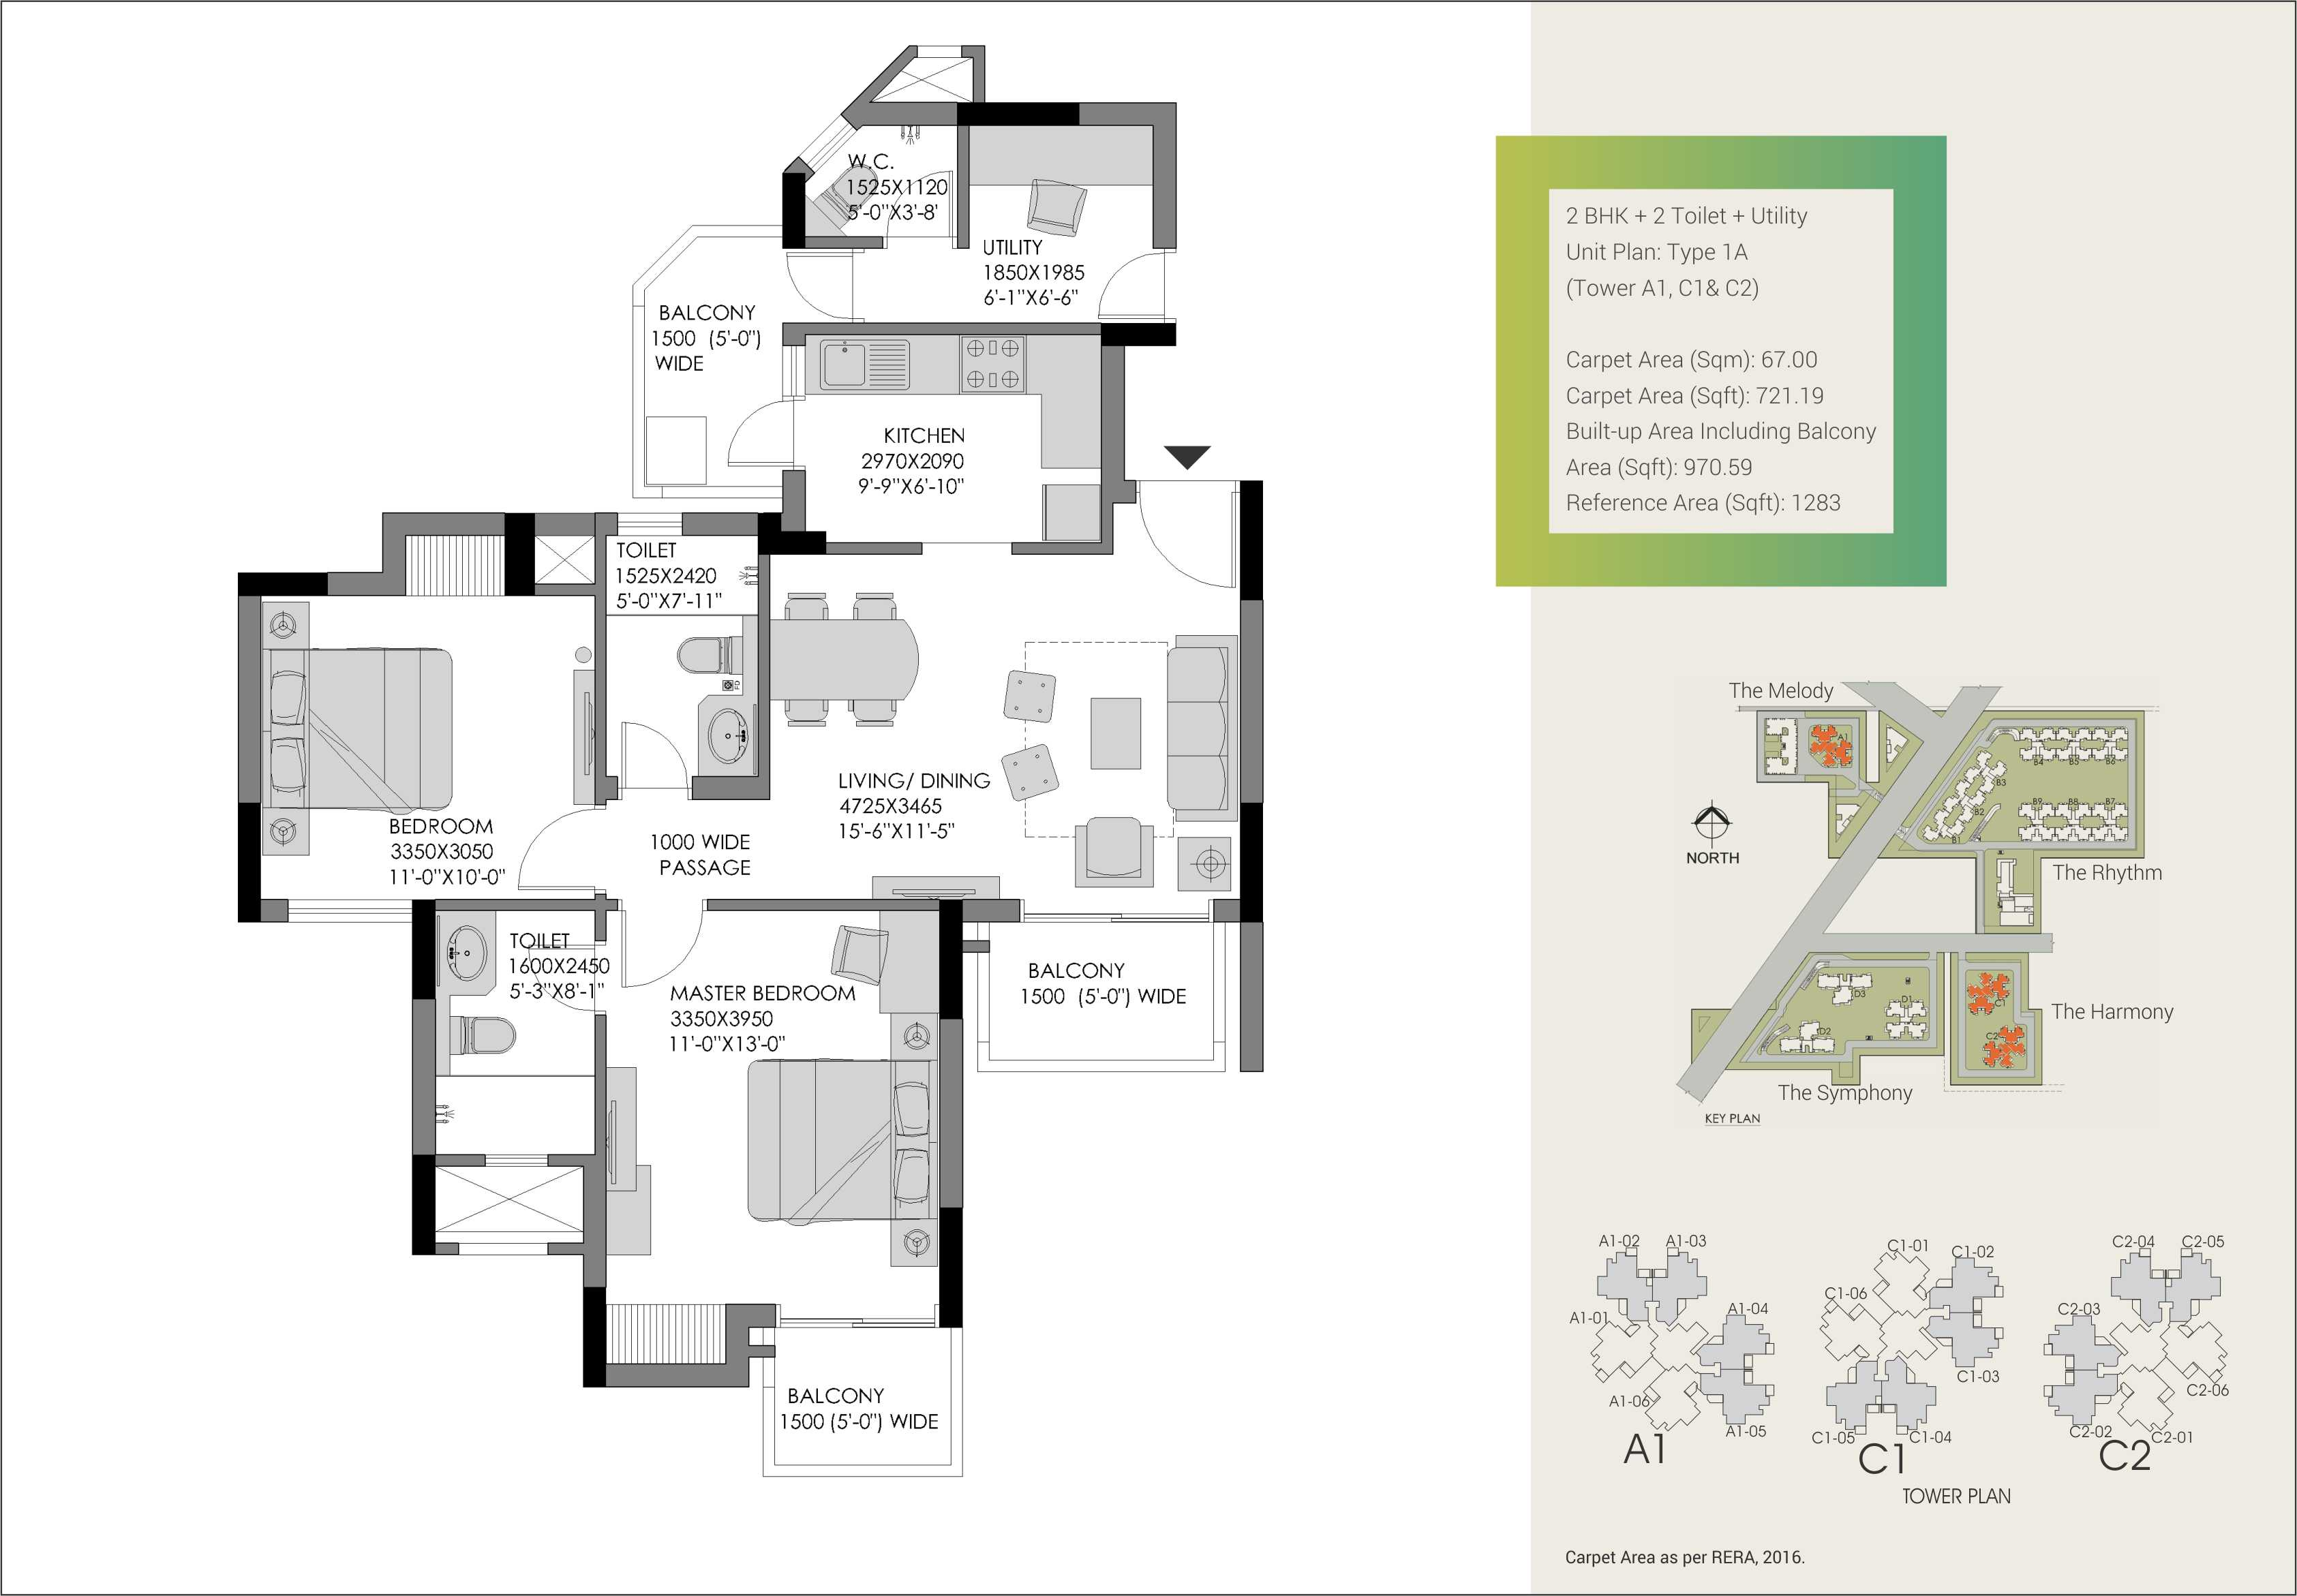window: (1018, 897, 1217, 931), (286, 895, 414, 926), (616, 511, 682, 541), (777, 344, 808, 401), (483, 1148, 548, 1172)
